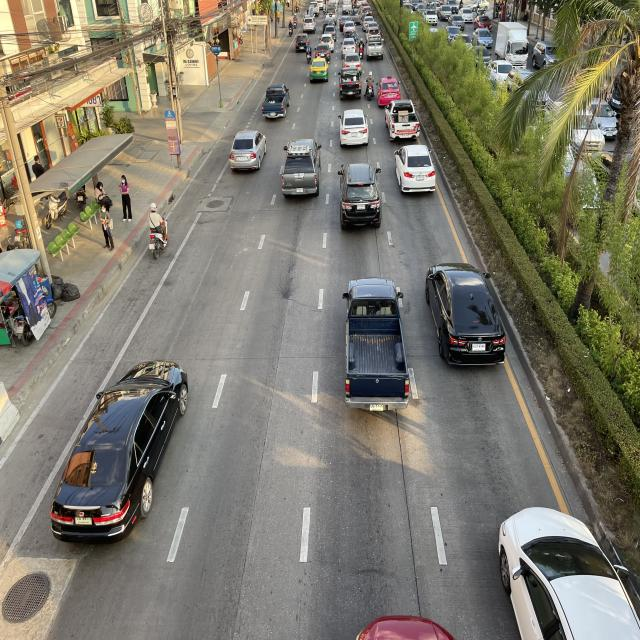bike: (145, 202, 169, 258), (364, 70, 376, 103), (306, 41, 312, 64), (358, 38, 364, 61), (292, 14, 298, 28), (288, 20, 293, 36)
car: (49, 358, 191, 544), (340, 275, 414, 413), (424, 260, 508, 366), (338, 160, 382, 230), (281, 137, 324, 199), (394, 144, 436, 198), (229, 126, 269, 174), (338, 109, 370, 148)
